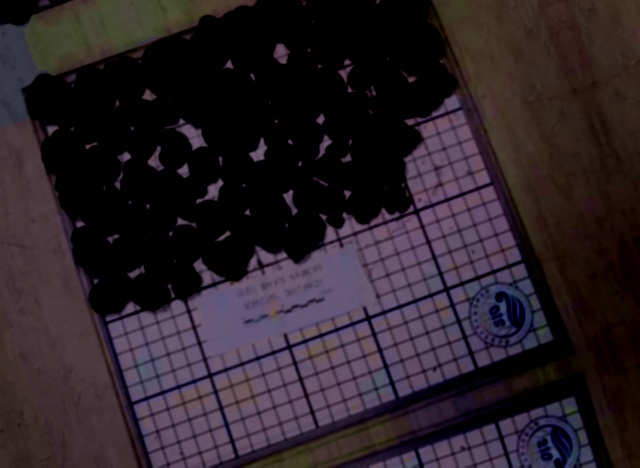halobolite: (31, 63, 100, 134), (239, 30, 292, 88), (269, 122, 344, 162), (67, 165, 111, 232), (182, 70, 239, 114), (293, 11, 332, 69), (115, 179, 154, 235), (367, 20, 405, 77), (120, 121, 161, 168), (407, 63, 450, 107), (89, 272, 134, 314), (209, 238, 250, 282), (180, 131, 218, 178), (76, 233, 122, 271), (256, 81, 296, 124), (201, 38, 240, 82), (170, 39, 208, 84), (139, 156, 182, 195), (251, 134, 287, 178), (337, 85, 376, 124), (260, 185, 302, 219), (131, 270, 166, 310), (353, 153, 385, 196), (418, 18, 452, 56), (390, 113, 420, 156), (154, 110, 188, 147), (154, 202, 193, 234), (206, 209, 238, 246), (291, 210, 329, 241), (285, 230, 317, 266), (238, 195, 268, 233), (337, 14, 366, 53), (199, 106, 233, 138), (164, 175, 197, 206), (113, 68, 141, 104), (360, 196, 393, 226), (324, 185, 359, 213), (194, 179, 222, 214), (373, 89, 401, 123), (323, 166, 357, 193), (262, 217, 293, 244), (178, 225, 203, 258)
